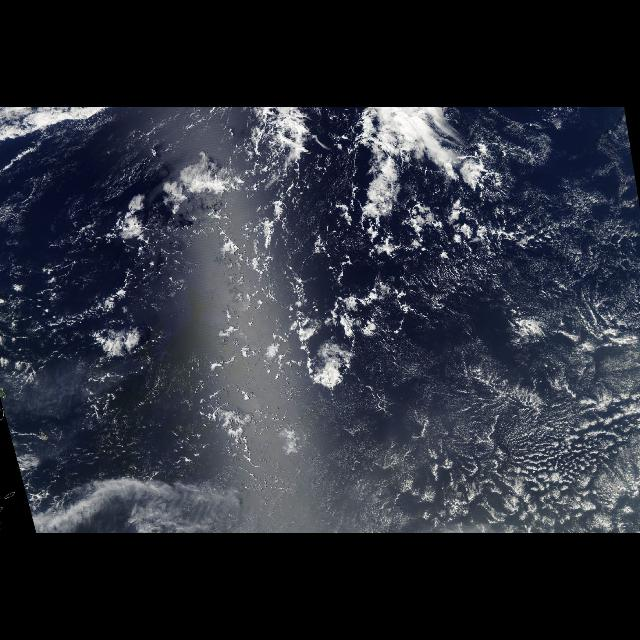Fish: (194, 112, 496, 388)
Sugar: (353, 165, 639, 480)
